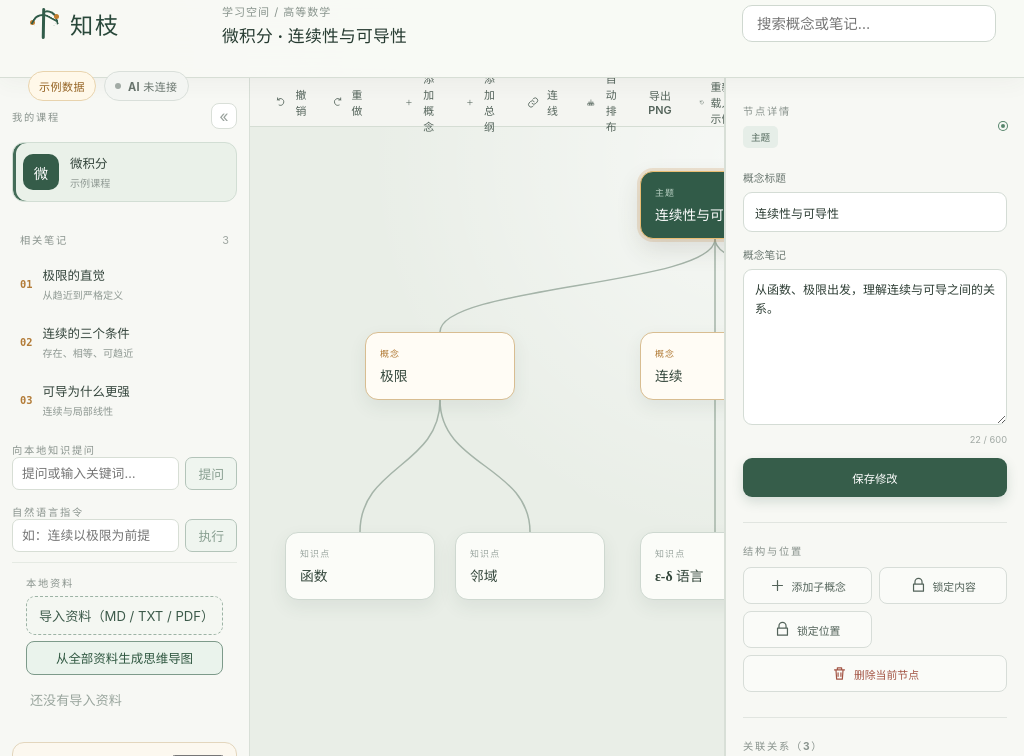
Test: natural-language command › interprets a command and shows a preview with accept/reject
Type "锁定极限的内容" into the field named "向知识树下达指令" at (96, 536), box [12,519,179,552]
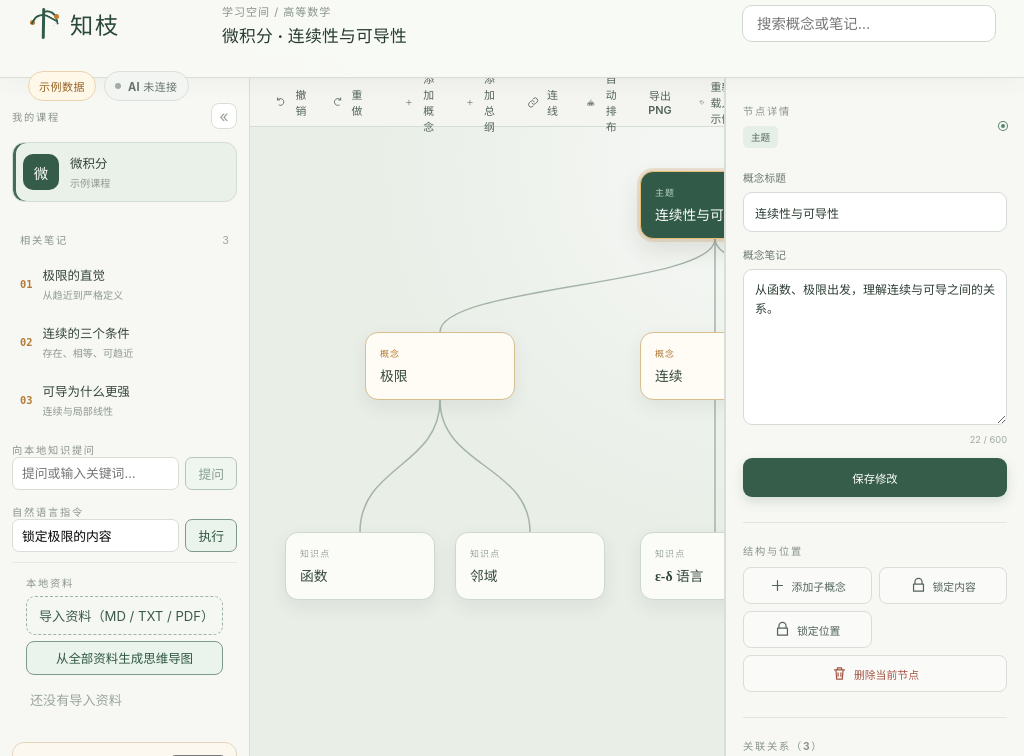
Click the button "执行" at (211, 536), box [185,519,237,552]
(page scrolled)
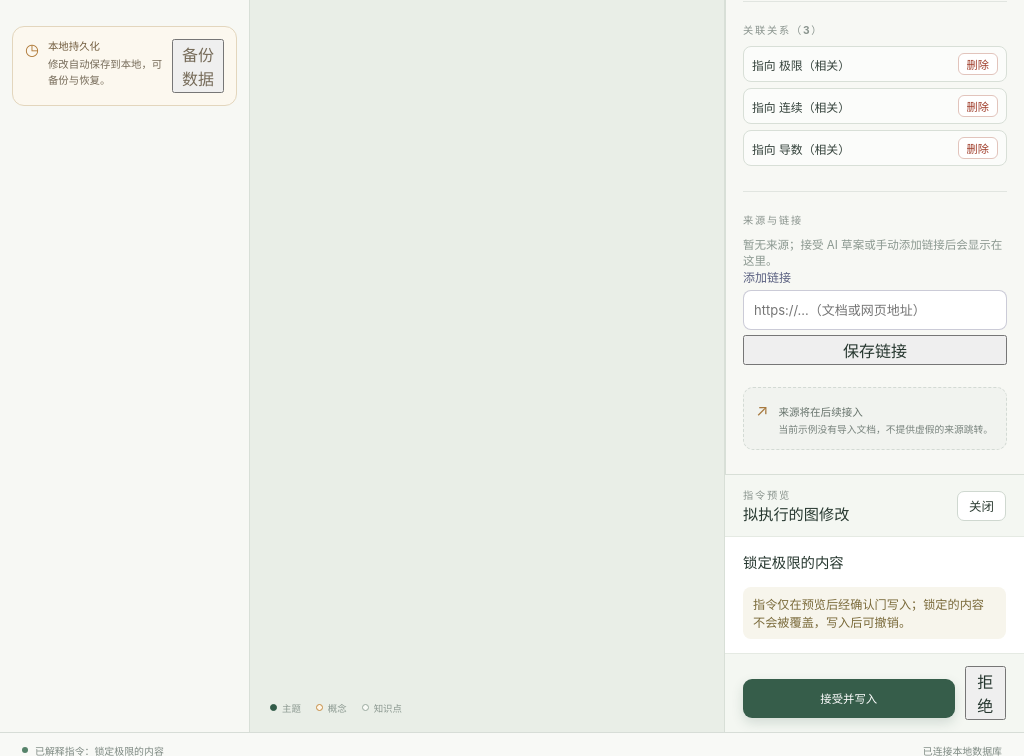
Expected: the element "指令预览" is shown, [725,474,1023,732]
Expected: the text "锁定极限的内容" is shown, [743,554,844,572]
